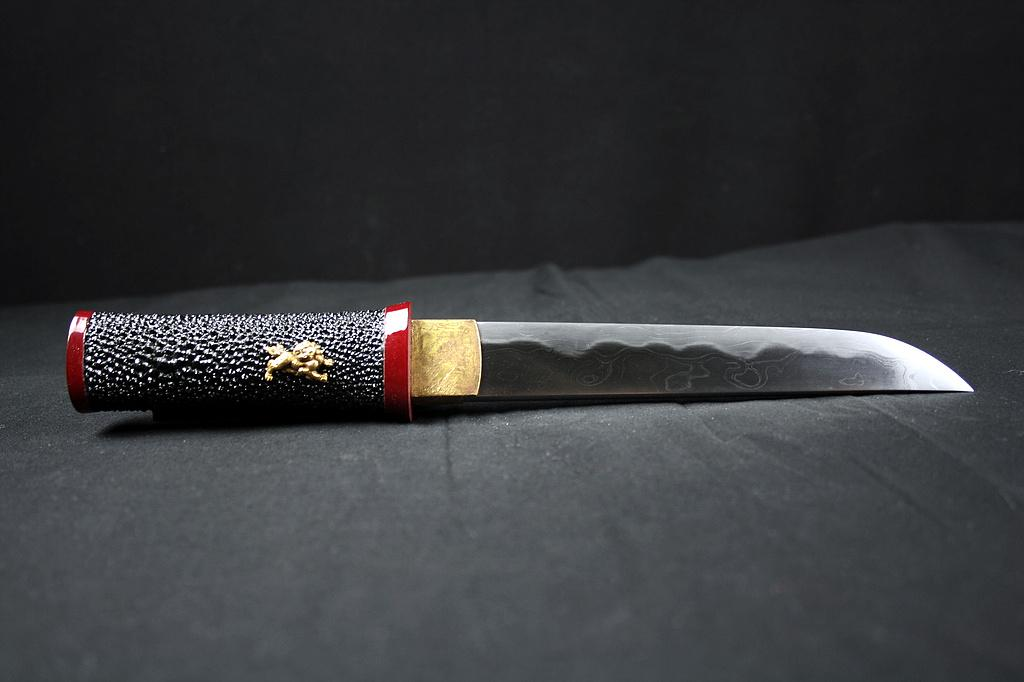knife: (20, 240, 985, 519)
